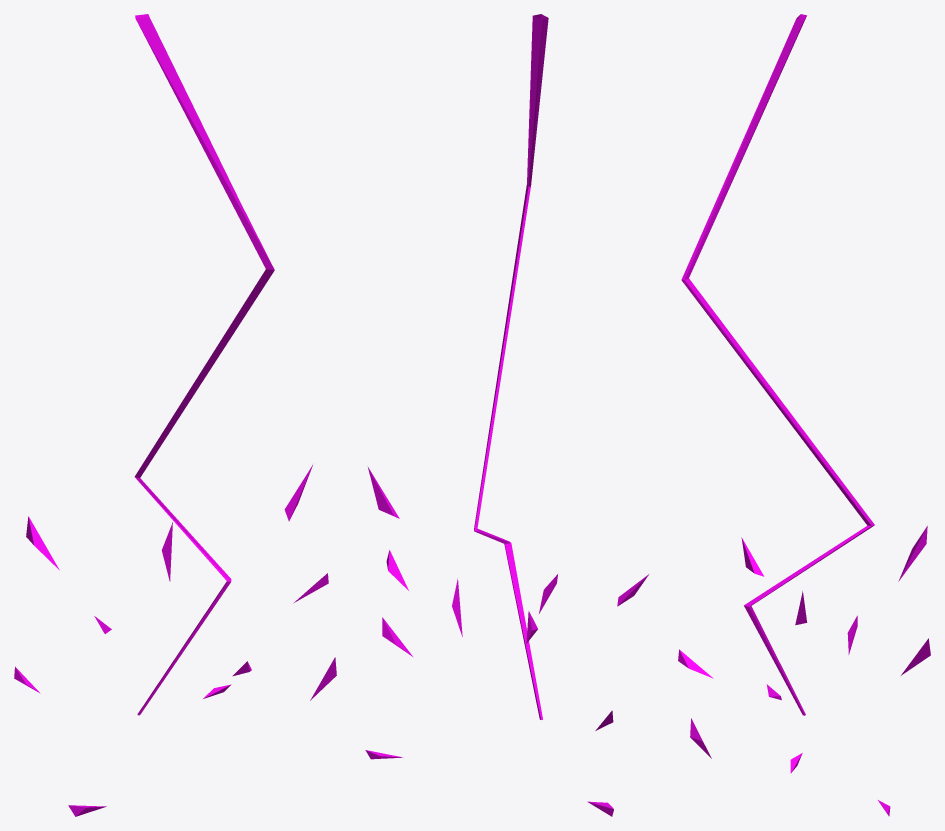
The model's file is lightning3.obj.
The picture shows the model from 3 angles, left to right: view 1: azimuth 30°, elevation 25°; view 2: azimuth 150°, elevation 25°; view 3: azimuth 270°, elevation 25°; orthographic projection.
Parts seen in each view (by area): view 1: lightning3_back; view 2: lightning3_back; view 3: lightning3_back.
Boxes of the visible parts, <box> form: lightning3_back: <box>14,14,336,816</box>; lightning3_back: <box>365,14,648,816</box>; lightning3_back: <box>678,14,930,816</box>.
Bounding box in the file's own units: 2.87 × 7.88 × 2.31.
